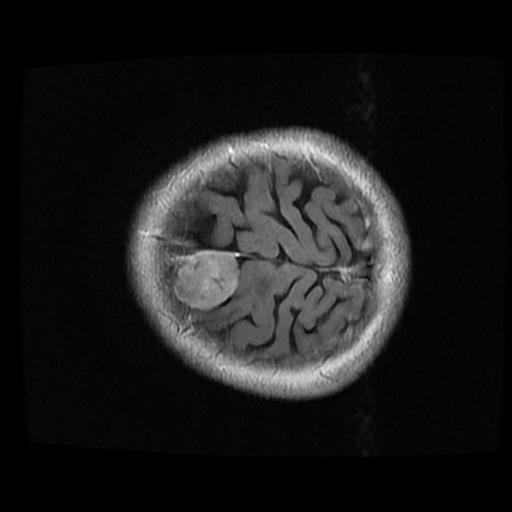meningioma: (176, 251, 235, 308)
